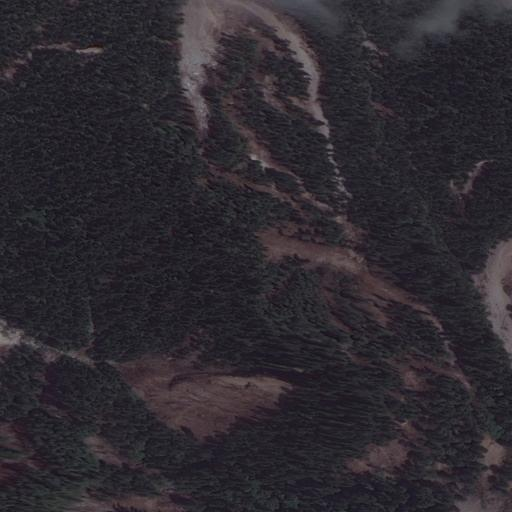landslide: (178, 2, 349, 195), (112, 352, 289, 440)
